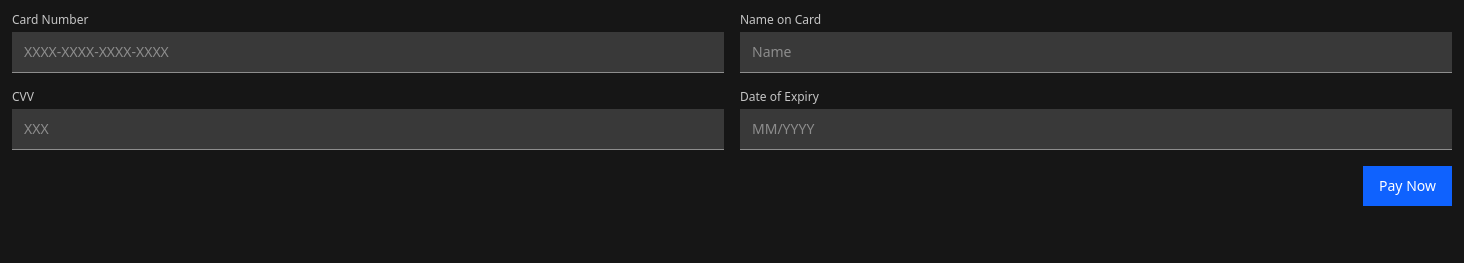
Test: CardForm › blocks submission and shows errors for invalid card details
This screenshot has width=1464, height=263.
Type "1234 5678 9012 3456" into the field labelled "Card Number". click: (368, 52)
box: [12, 32, 724, 73]
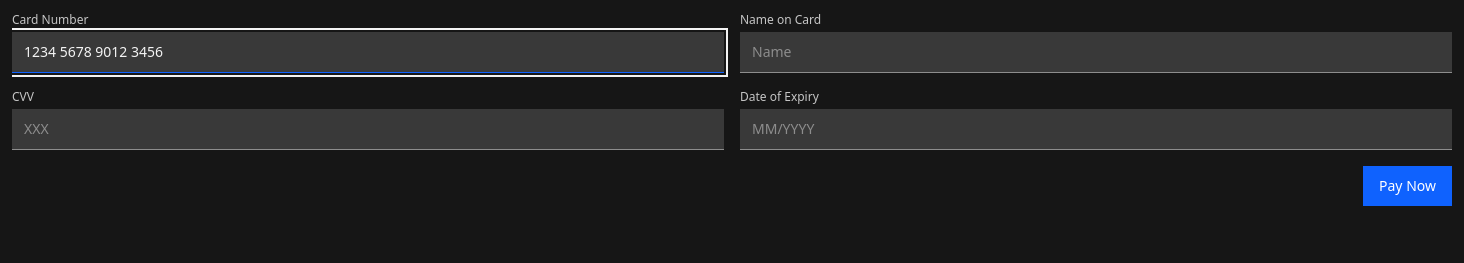
Type "1" into the password field labelled "CVV". click: (368, 130)
box: [12, 109, 724, 150]
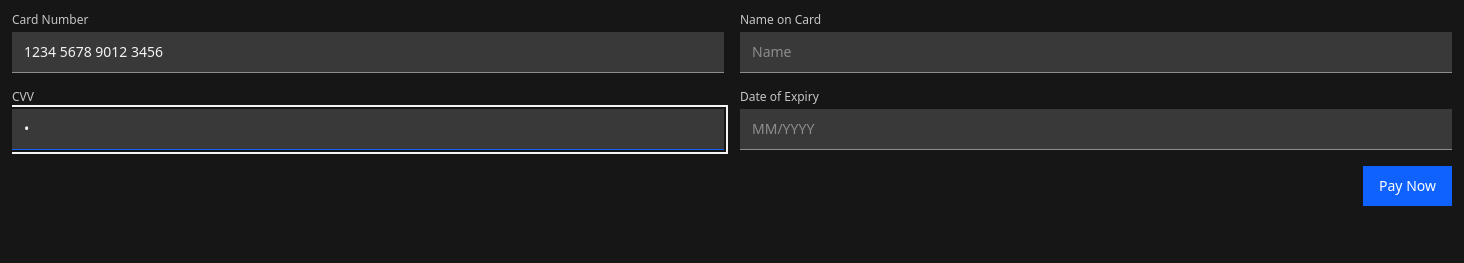
Click the button "Pay Now". click: click(1408, 186)
box: [1363, 166, 1452, 206]
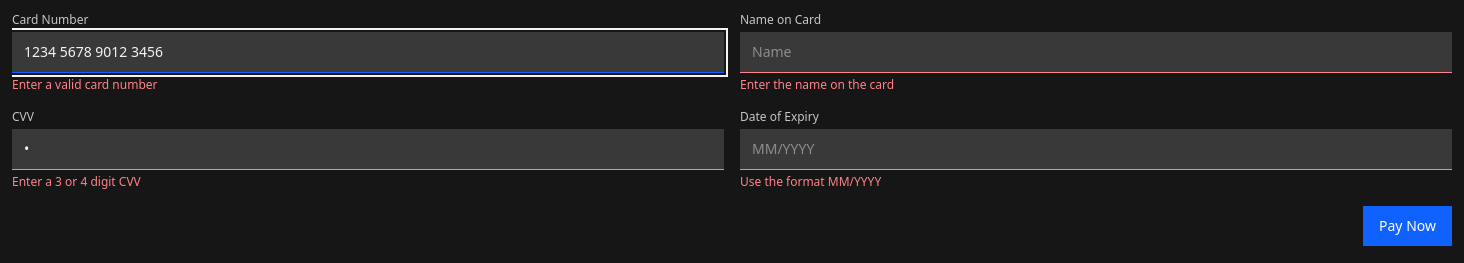
Expected: the text "Enter a valid card number" is shown, [12, 76, 158, 93]
Expected: the text "Enter a 3 or 4 digit CVV" is shown, [12, 173, 141, 190]
Expected: the text "Use the format MM/YYYY" is shown, [740, 173, 881, 190]
